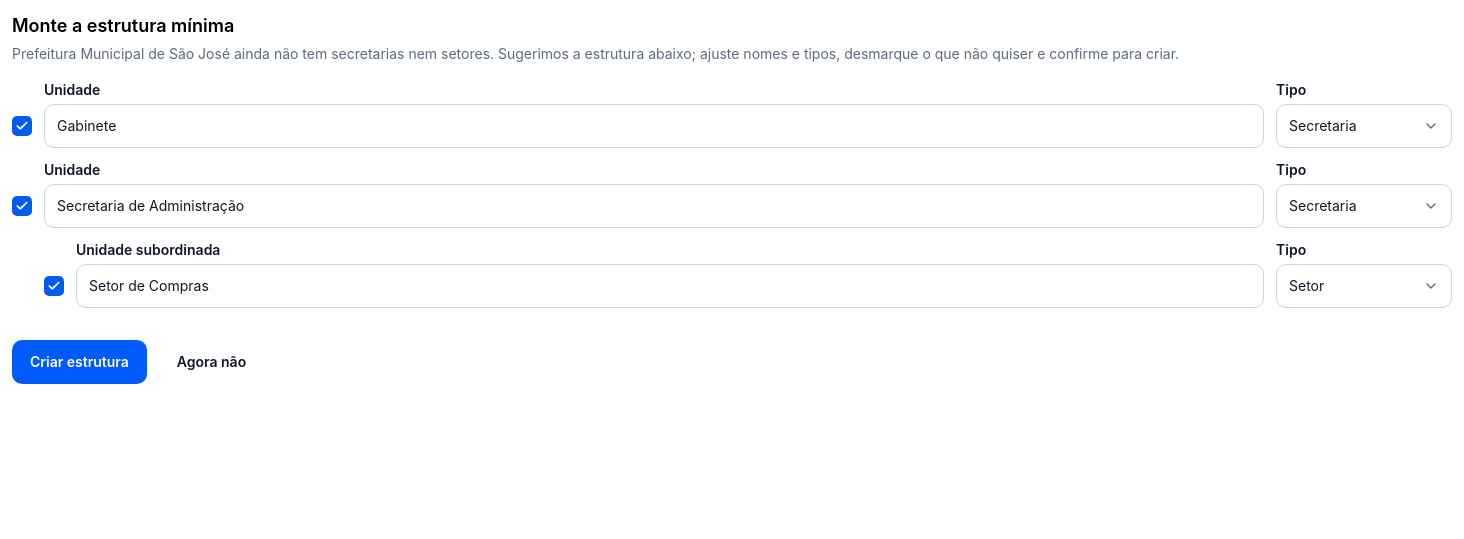
ImplementationAssistant (SCR-032 · US-099) › falha parcial mantém o que foi criado e repete com a mesma chave só o restante
Click the button "Criar estrutura": (79, 362) [12, 340, 147, 384]
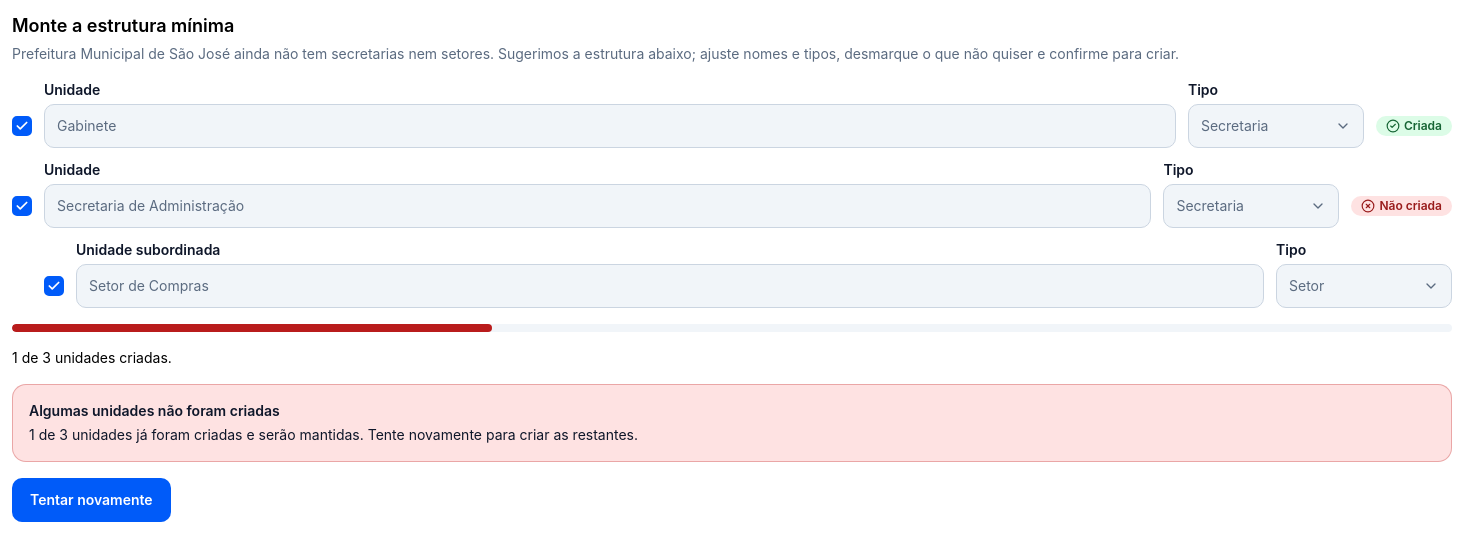
Expected: the text "Algumas unidades não foram criadas" is shown, [29, 402, 280, 419]
Expected: the text "1 de 3 unidades criadas." is shown, [12, 349, 172, 366]
Expected: the text "Criada" is shown, [1376, 116, 1452, 136]
Click the button "Tentar novamente": (91, 500) [12, 478, 171, 522]
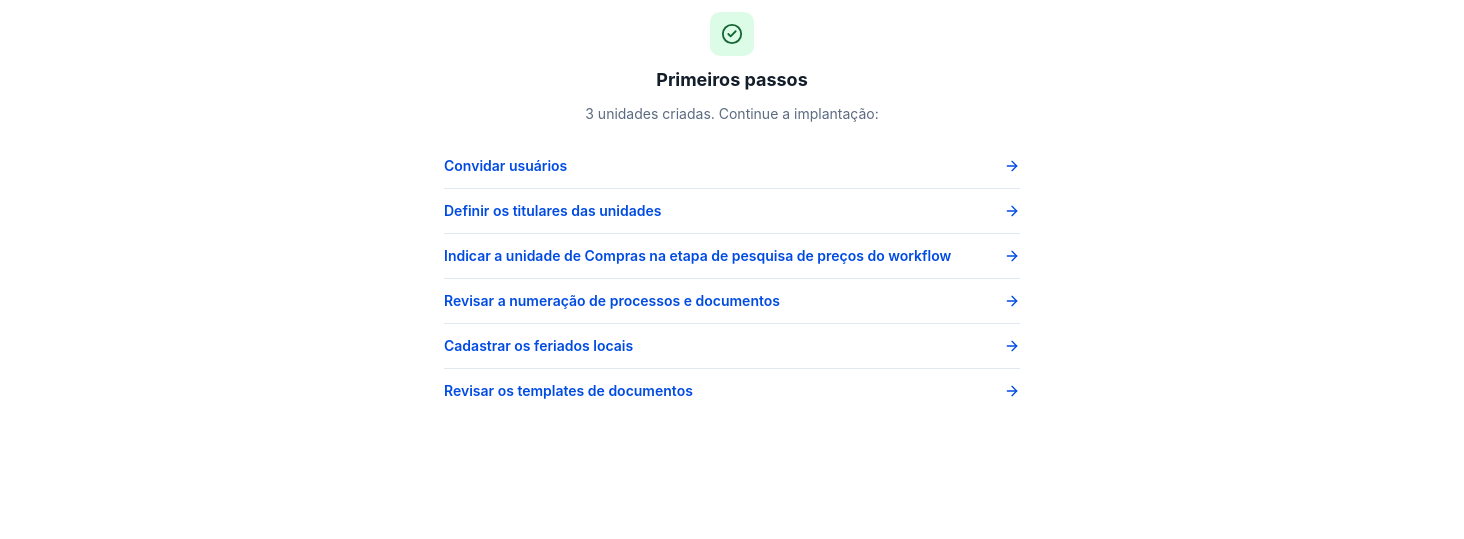
Expected: the heading "Primeiros passos" is shown, [656, 66, 808, 94]
